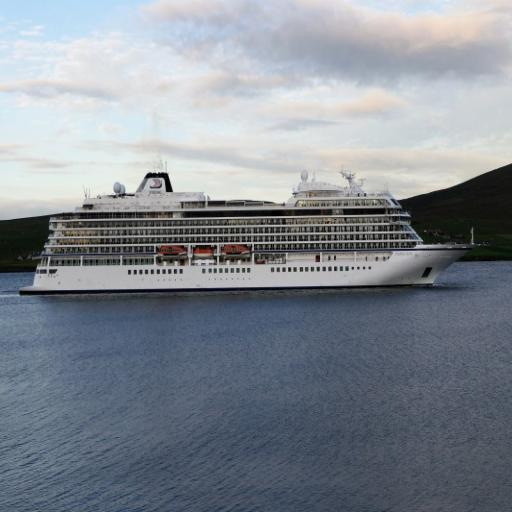cruises: (17, 163, 487, 300)
